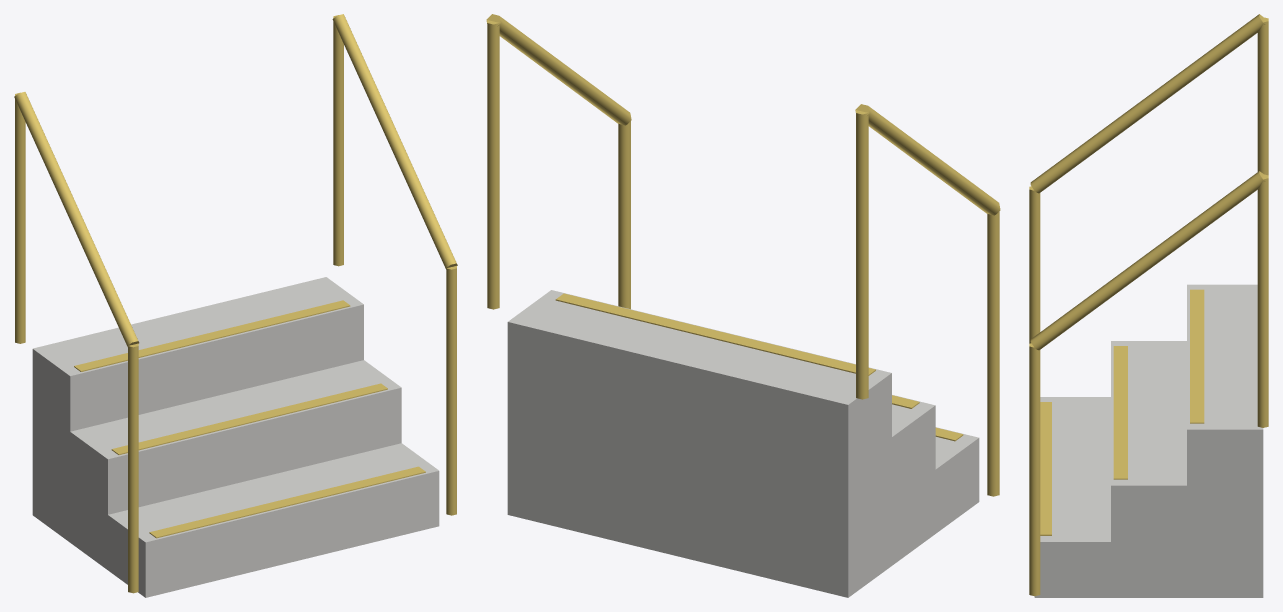
File: habSteps_concrete.glb
The picture shows the model from 3 angles, left to right: view 1: azimuth 30°, elevation 25°; view 2: azimuth 150°, elevation 25°; view 3: azimuth 270°, elevation 25°; orthographic projection. The views are drawn at different scales.
Parts seen in each view (by area): view 1: habSteps_concrete; view 2: habSteps_concrete; view 3: habSteps_concrete.
Boxes of the visible parts, x1,y1,x2,y2 form: habSteps_concrete: (14, 14, 457, 597); habSteps_concrete: (486, 14, 1000, 597); habSteps_concrete: (1029, 14, 1268, 597).
Bounding box in the file's own units: 1.35 × 1.67 × 0.8381.
